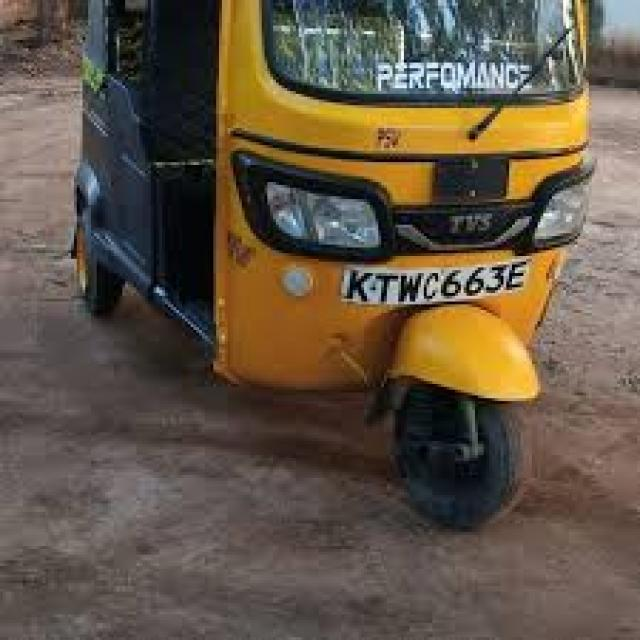tuktuk: (65, 0, 606, 634)
